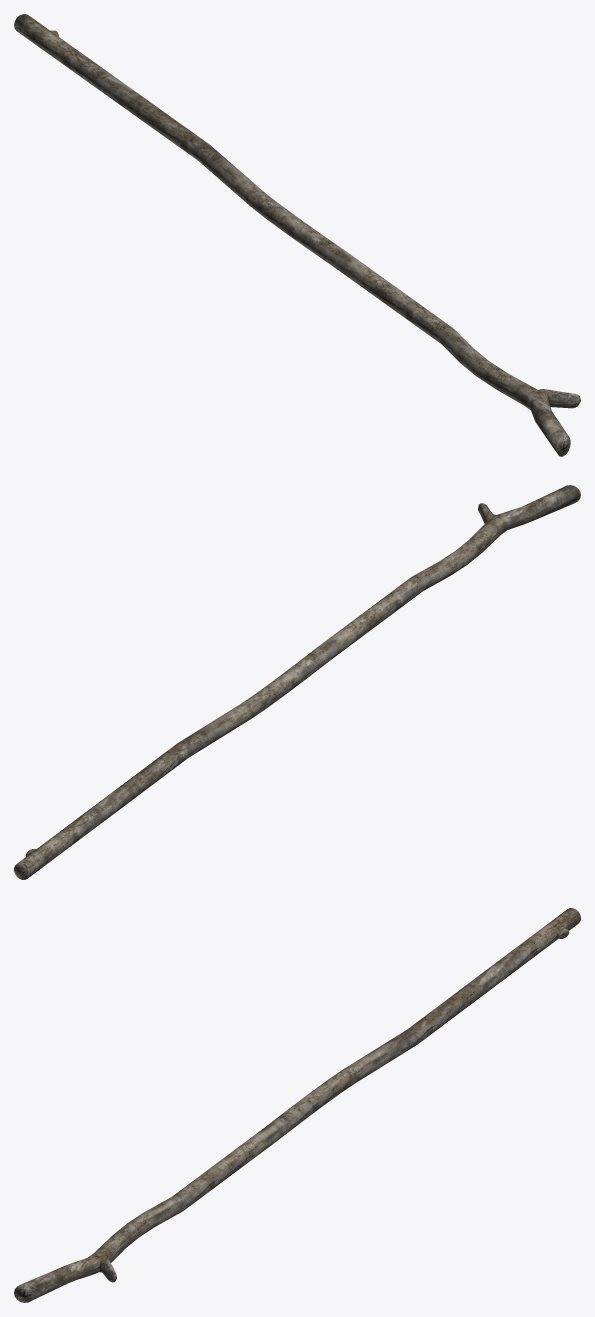
File: SM_Twigs_2.fbx
3 views of the same model, one above another, from view 1: azimuth 30°, elevation 25°; view 2: azimuth 150°, elevation 25°; view 3: azimuth 330°, elevation 25° (orthographic). The views are drawn at different scales.
Parts seen in each view (by area): view 1: SM_Twigs_2_LOD0; view 2: SM_Twigs_2_LOD0; view 3: SM_Twigs_2_LOD0.
Part boxes in pixels (left/top/right/bottom): SM_Twigs_2_LOD0: left=14, top=14, right=580, bottom=456; SM_Twigs_2_LOD0: left=14, top=485, right=580, bottom=879; SM_Twigs_2_LOD0: left=14, top=908, right=580, bottom=1302.
Bounding box in the file's own units: 9.03 × 131 × 2.59.
